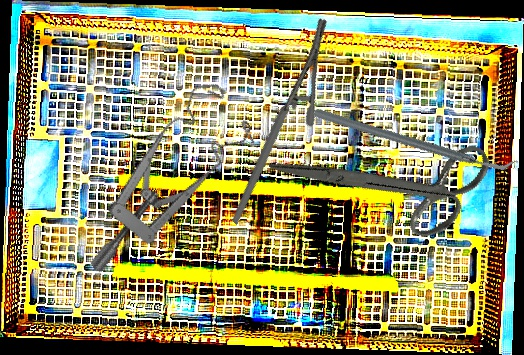Chopper: (310, 40, 520, 238)
Iris Scissors: (268, 77, 508, 287)
Needle Holder: (176, 14, 381, 226)
Speculum: (41, 73, 278, 275)
